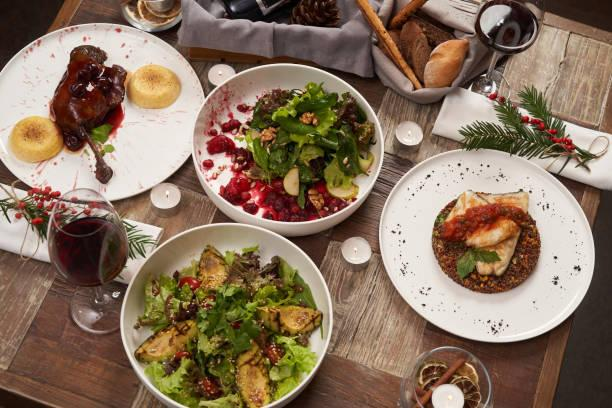Braised Crucian Carp: (380, 148, 593, 340), (120, 221, 327, 404), (0, 23, 202, 203), (191, 63, 378, 235)
